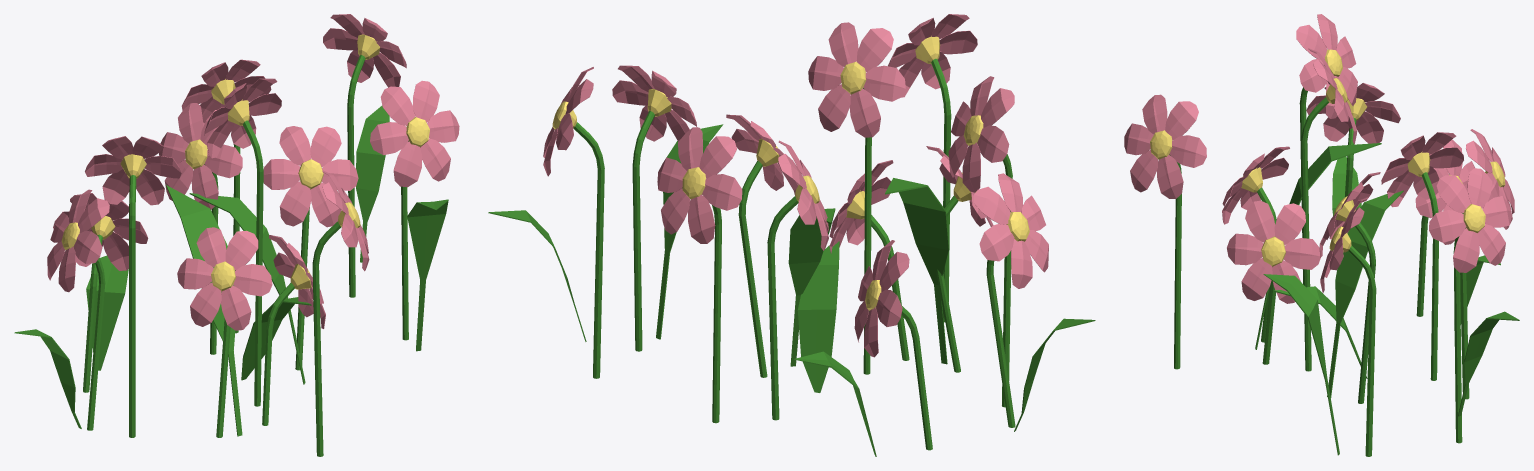
Rendered from Flowers_1.fbx.
The picture shows the model from 3 angles, left to right: view 1: azimuth 30°, elevation 25°; view 2: azimuth 150°, elevation 25°; view 3: azimuth 270°, elevation 25°; orthographic projection. The views are drawn at different scales.
Visible parts, largest first — view 1: Flowers_1; view 2: Flowers_1; view 3: Flowers_1.
Boxes of the visible parts, box(x1,y1,x2,y2) form: Flowers_1: box(14, 14, 459, 456); Flowers_1: box(488, 14, 1095, 456); Flowers_1: box(1124, 14, 1519, 456).
Bounding box in the file's own units: 82.97 × 62.26 × 54.56.
